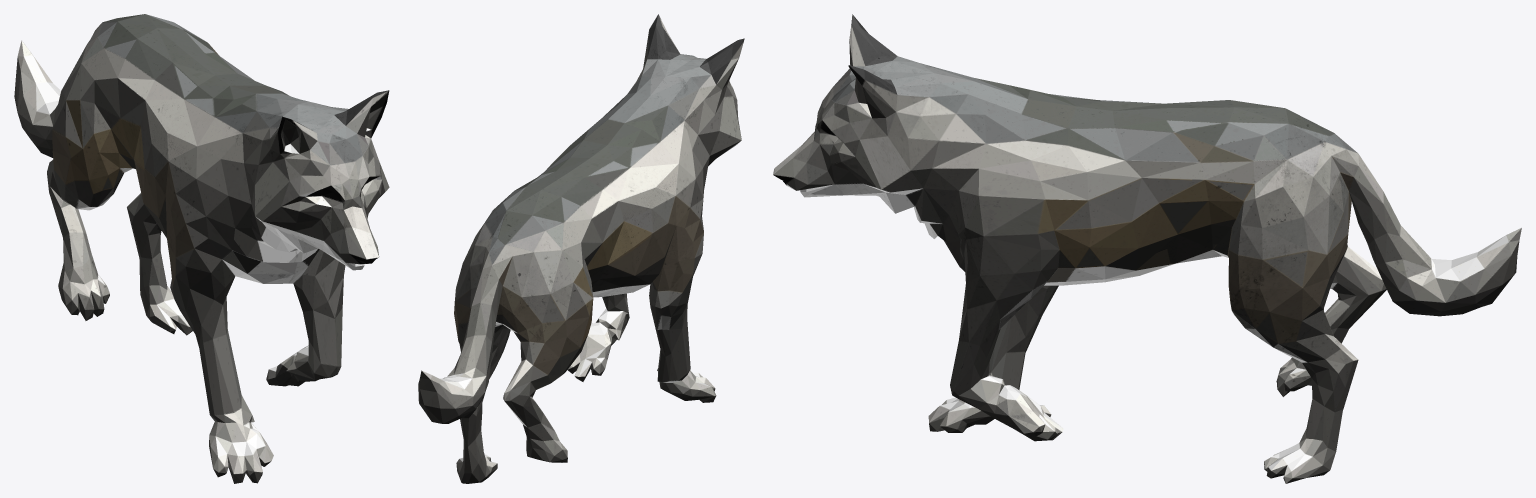
Rendered from Create a wolf pack.glb.
The picture shows the model from 3 angles, left to right: view 1: azimuth 30°, elevation 25°; view 2: azimuth 150°, elevation 25°; view 3: azimuth 270°, elevation 25°; orthographic projection. The views are drawn at different scales.
Parts seen in each view (by area): view 1: grey_wolf2.1; view 2: grey_wolf2.1; view 3: grey_wolf2.1.
Part boxes in pixels (x1=…): grey_wolf2.1: x1=14, y1=14, x2=389, y2=483; grey_wolf2.1: x1=418, y1=14, x2=744, y2=483; grey_wolf2.1: x1=773, y1=14, x2=1521, y2=483.
Bounding box in the file's own units: 0.5891 × 1.44 × 2.37.
Materials: 1 (1 with a texture image).
